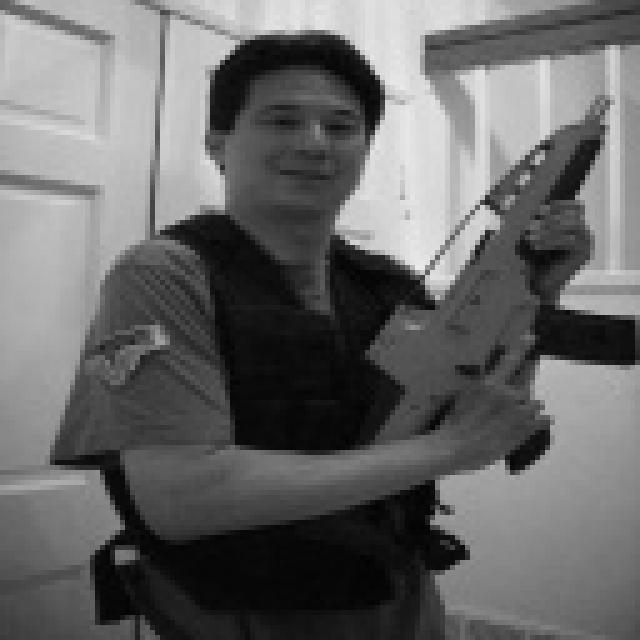Rifle: (326, 64, 630, 507)
